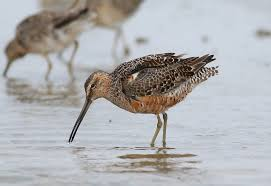Walking: (46, 45, 224, 151)
